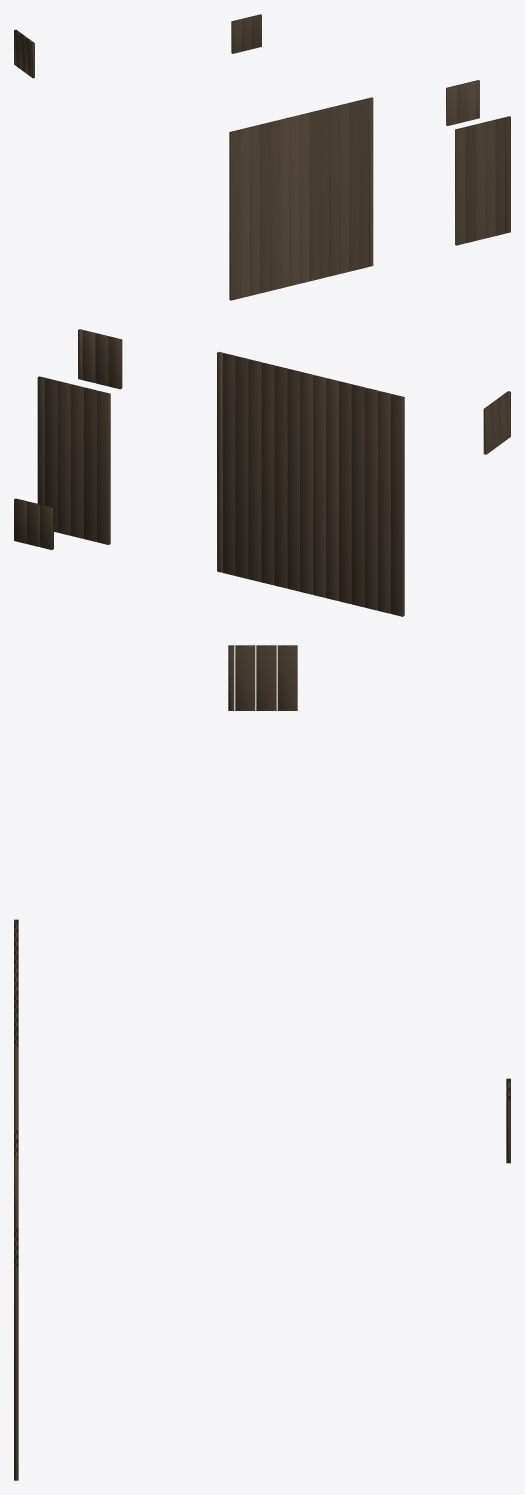
The model's file is SM_BarnWood_03.glb.
3 renders of one model, top to bottom at view 1: azimuth 30°, elevation 25°; view 2: azimuth 150°, elevation 25°; view 3: azimuth 270°, elevation 25°, orthographic. The views are drawn at different scales.
Visible parts, largest first — view 1: SM_BarnWood_03; view 2: SM_BarnWood_03; view 3: SM_BarnWood_03.
Boxes of the visible parts, bbox=[...] form: SM_BarnWood_03: bbox=[14, 14, 510, 300]; SM_BarnWood_03: bbox=[14, 329, 510, 616]; SM_BarnWood_03: bbox=[14, 645, 510, 1480].
Size of the model in its own units: 7.62 by 4.31 by 4.24.
